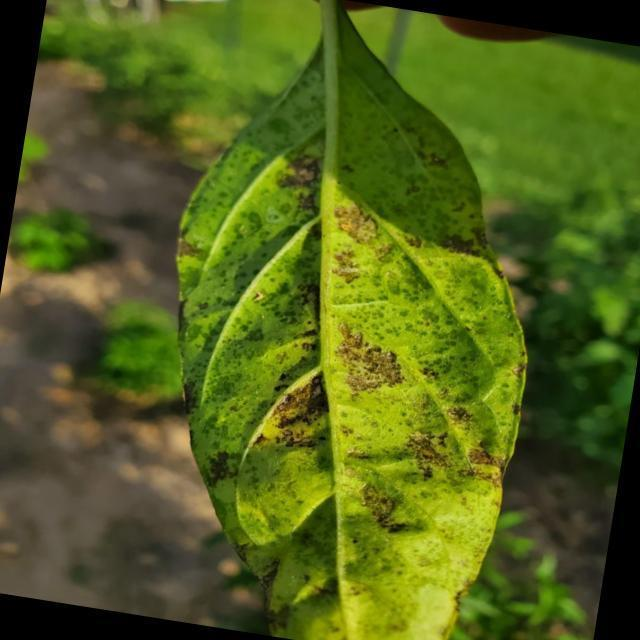Bacterial Spot: (172, 136, 544, 578)
